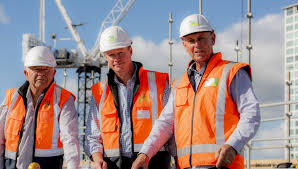hard hat: (100, 26, 133, 52), (179, 14, 212, 38), (24, 46, 57, 67)
high-vis: (172, 51, 252, 169), (93, 65, 170, 157), (3, 82, 77, 169)
